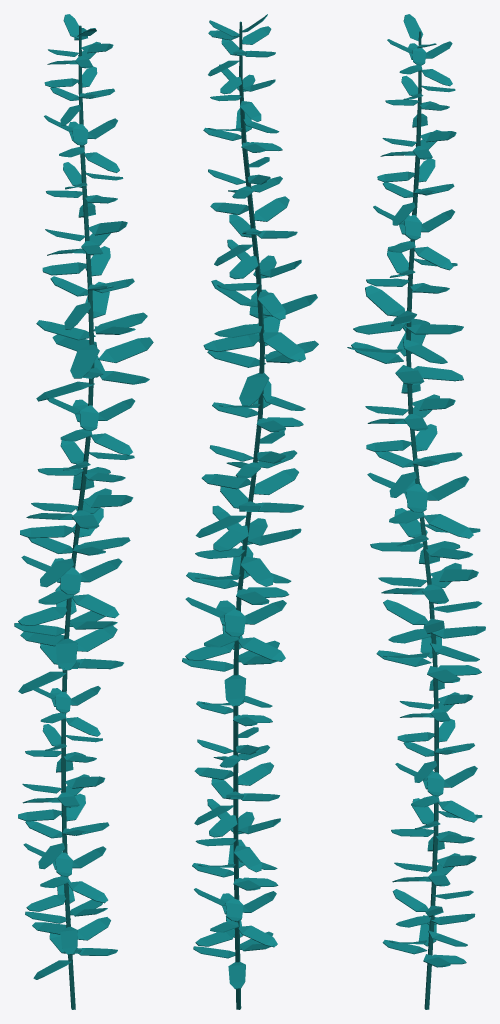
The model's file is Seaweed_020.glb.
The picture shows the model from 3 angles, left to right: view 1: azimuth 90°, elevation 25°; view 2: azimuth 150°, elevation 25°; view 3: azimuth 270°, elevation 25°; orthographic projection.
Visible parts, largest first — view 1: Seaweed_020; view 2: Seaweed_020; view 3: Seaweed_020.
Part boxes in pixels (left/top/right/bottom): Seaweed_020: left=14, top=14, right=153, bottom=1009; Seaweed_020: left=182, top=14, right=318, bottom=1009; Seaweed_020: left=347, top=14, right=485, bottom=1009.
Bounding box in the file's own units: 0.8977 × 7.6 × 0.9709.
Materials: 1 (1 with a texture image).
